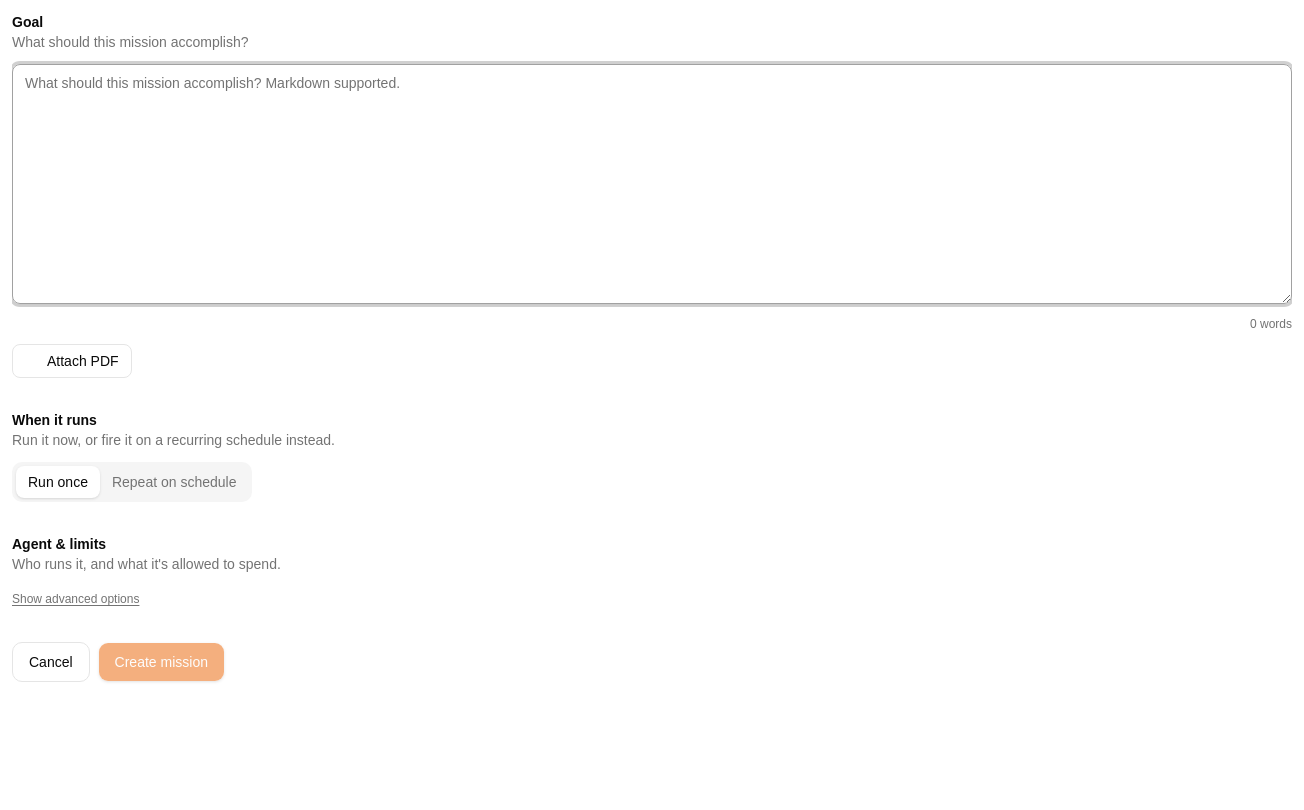
it: MissionForm — kind chip › shows a detecting state then the classified kind after the debounce
The width and height of the screenshot is (1304, 810).
In the text box named "Goal": [652, 184] box [12,64,1292,304], type "Fix a bug in the repo"
Wait 600 ms
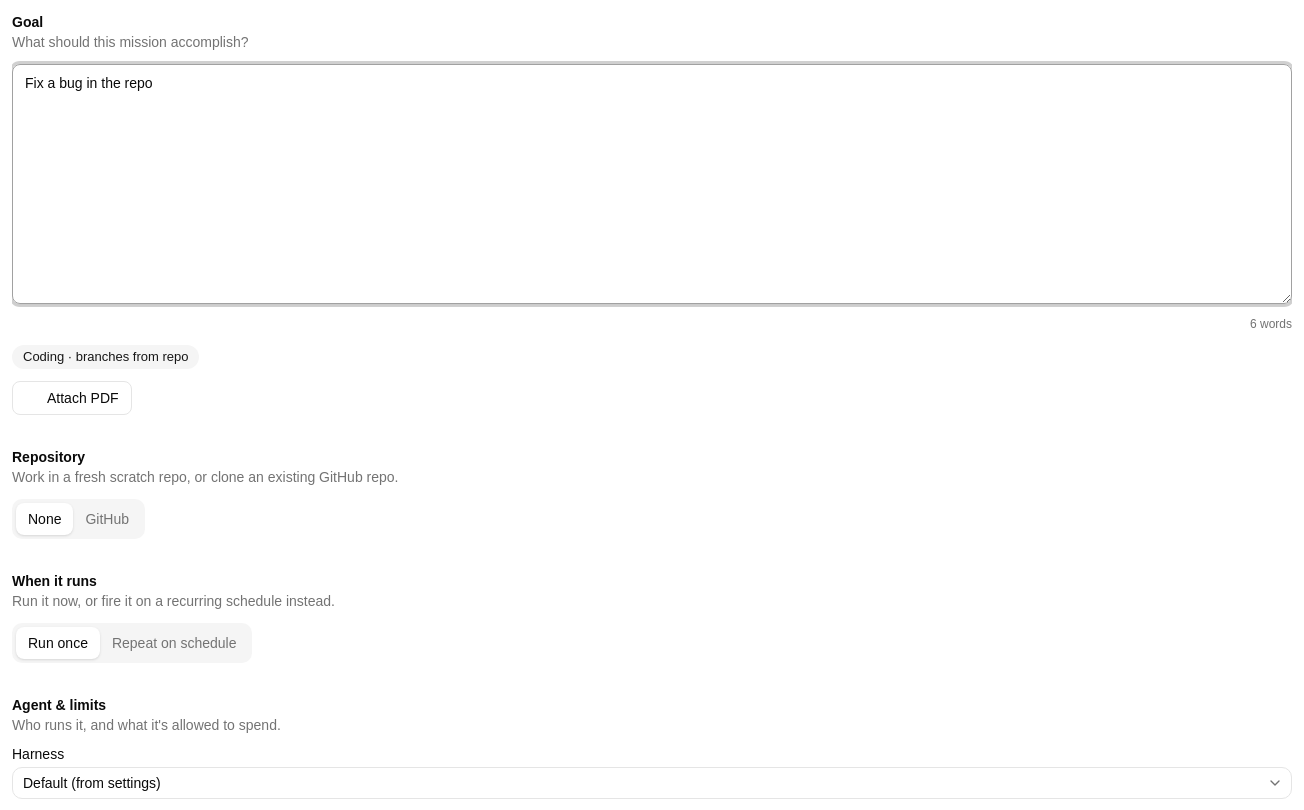
Now the text "Coding · branches from repo" is shown, box [12,345,200,369]
